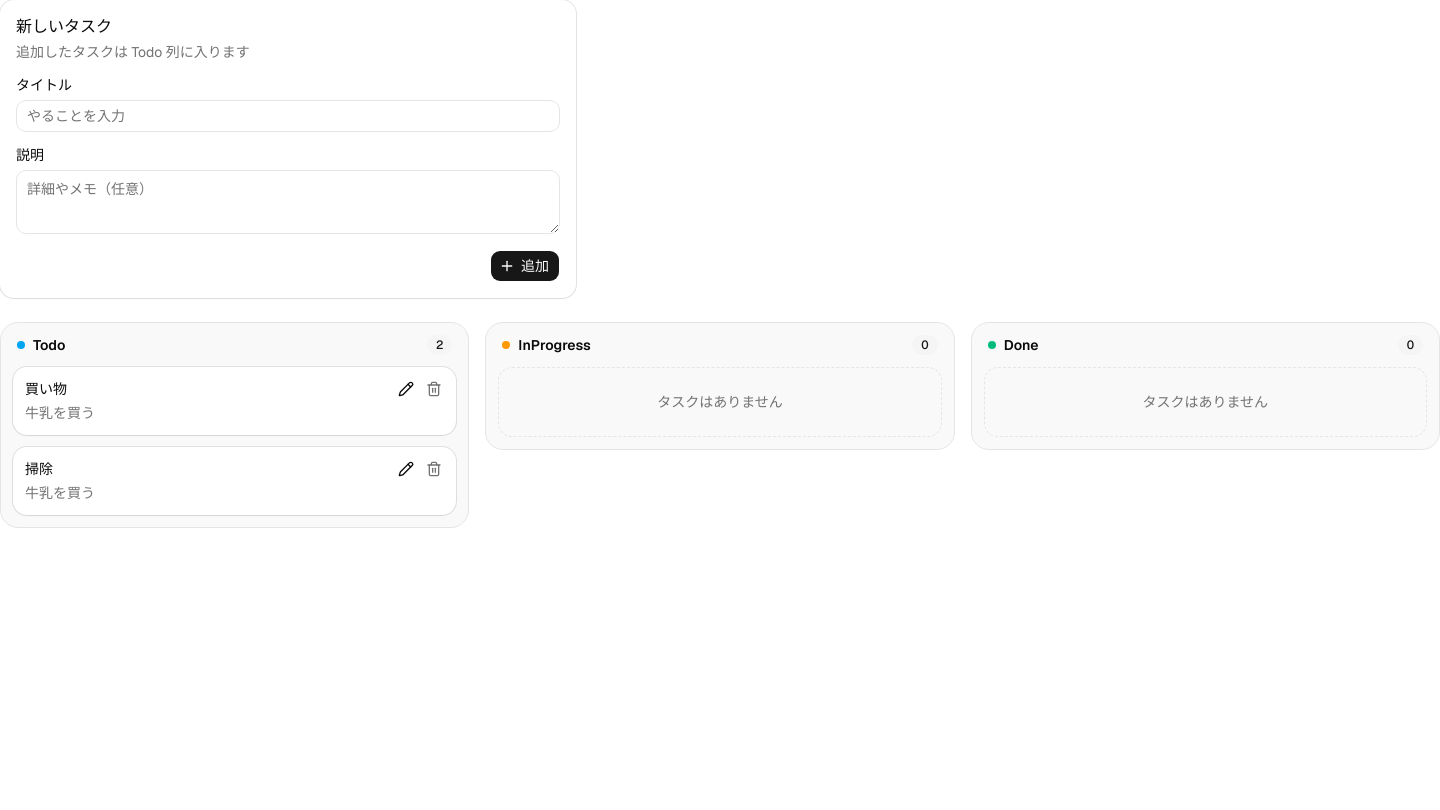
Test: KanbanBoard › 削除 › 確認ダイアログで削除するを選ぶと一覧からすぐ消え、ダイアログが閉じる
Check: the element "Todo" is shown, box top-left (0, 322), bottom-right (469, 528)
Click the button named "削除" in the row of "買い物" at (434, 389), box top-left (420, 375), bottom-right (448, 403)
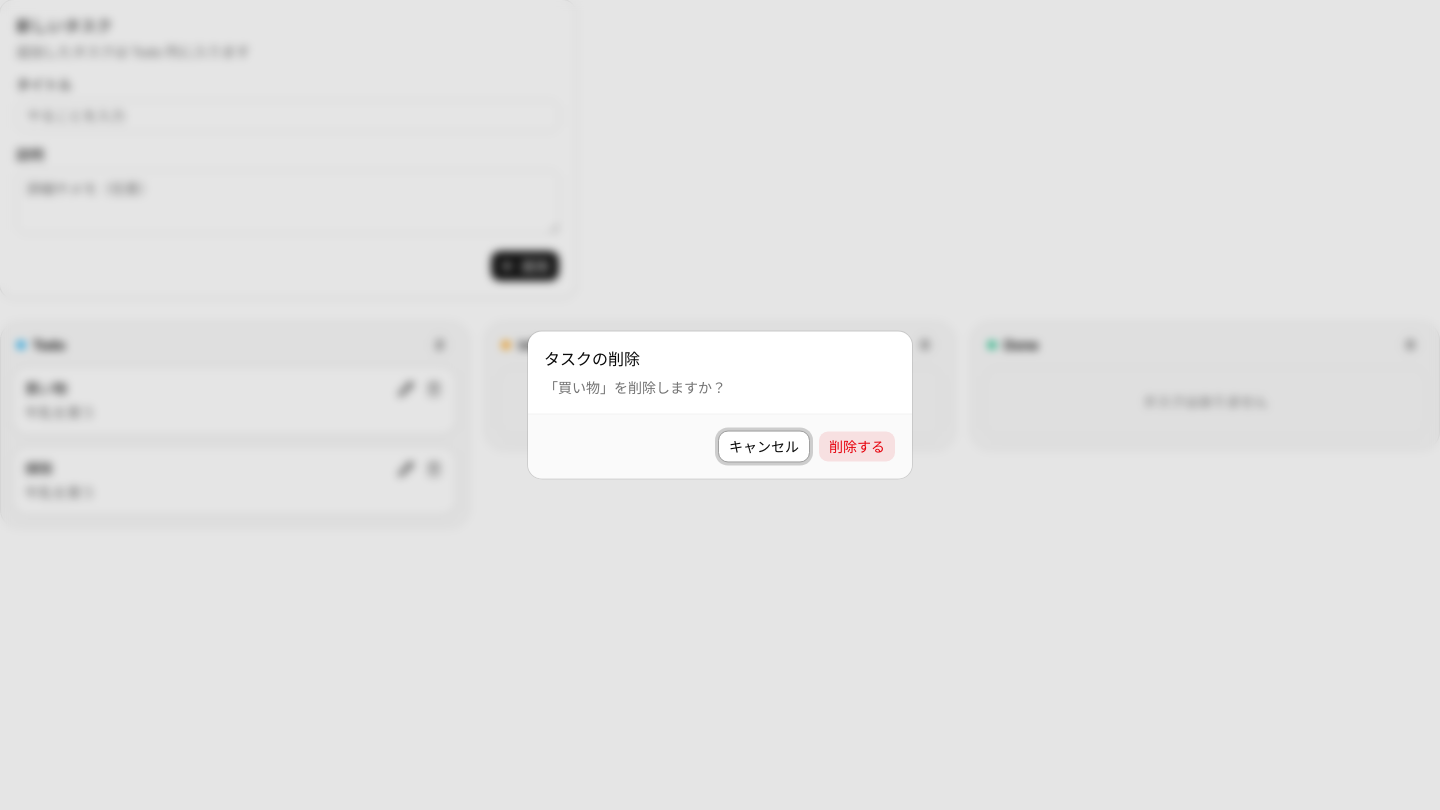
Click the button "削除する" at (857, 446), box top-left (818, 430), bottom-right (896, 462)
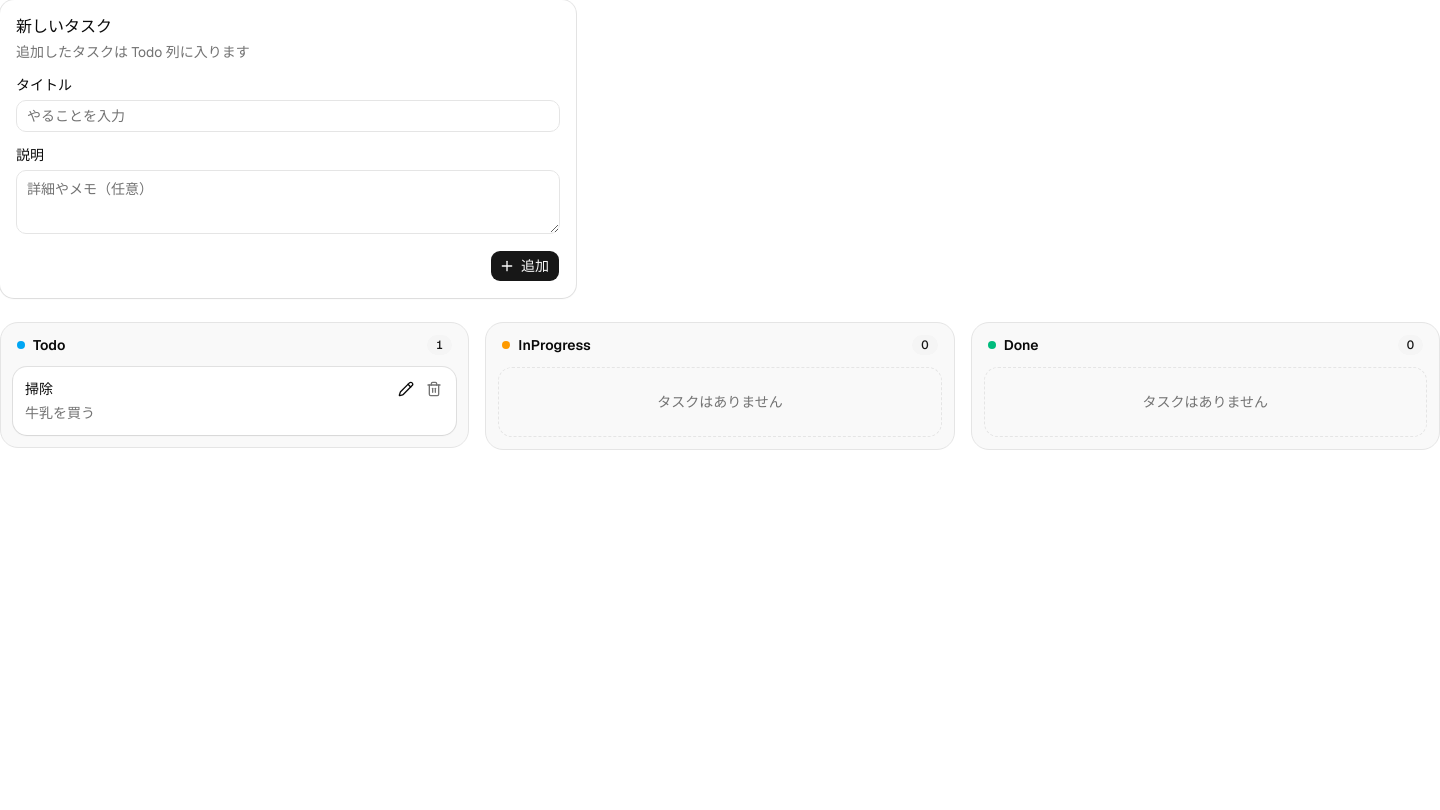
Check: the element "掃除" is shown, box top-left (13, 367), bottom-right (456, 435)
Check: the heading "買い物" is gone
Check: the dialog is gone
